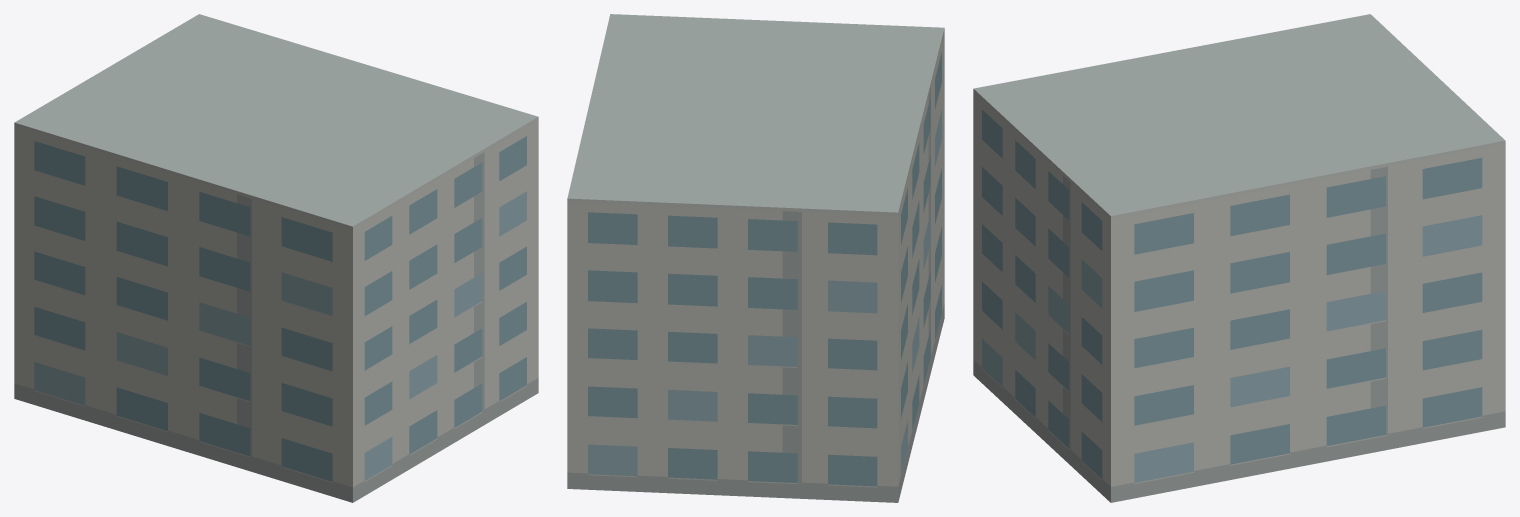
File: survey-upis-32458052.glb
The picture shows the model from 3 angles, left to right: view 1: azimuth 30°, elevation 25°; view 2: azimuth 150°, elevation 25°; view 3: azimuth 270°, elevation 25°; orthographic projection. The views are drawn at different scales.
Visible parts, largest first — view 1: survey-upis-32458052.tmp; view 2: survey-upis-32458052.tmp; view 3: survey-upis-32458052.tmp.
Boxes of the visible parts, x1,y1,x2,y2 form: survey-upis-32458052.tmp: [14, 14, 538, 502]; survey-upis-32458052.tmp: [567, 14, 944, 502]; survey-upis-32458052.tmp: [973, 14, 1505, 502].
Size of the model in its own units: 30.22 by 19.98 by 33.61.
